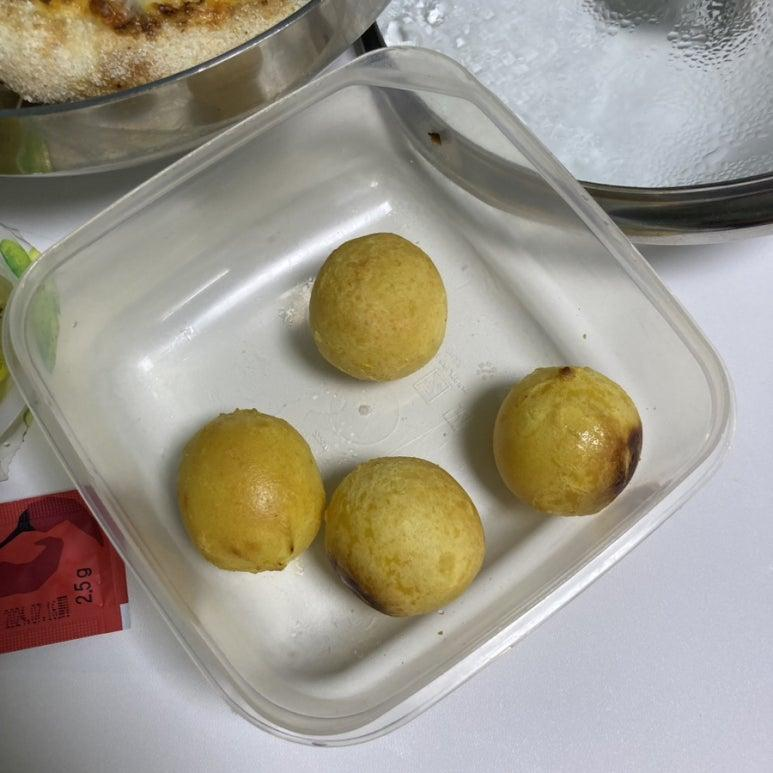Lunch Box: (6, 48, 731, 740), (0, 0, 772, 242)
